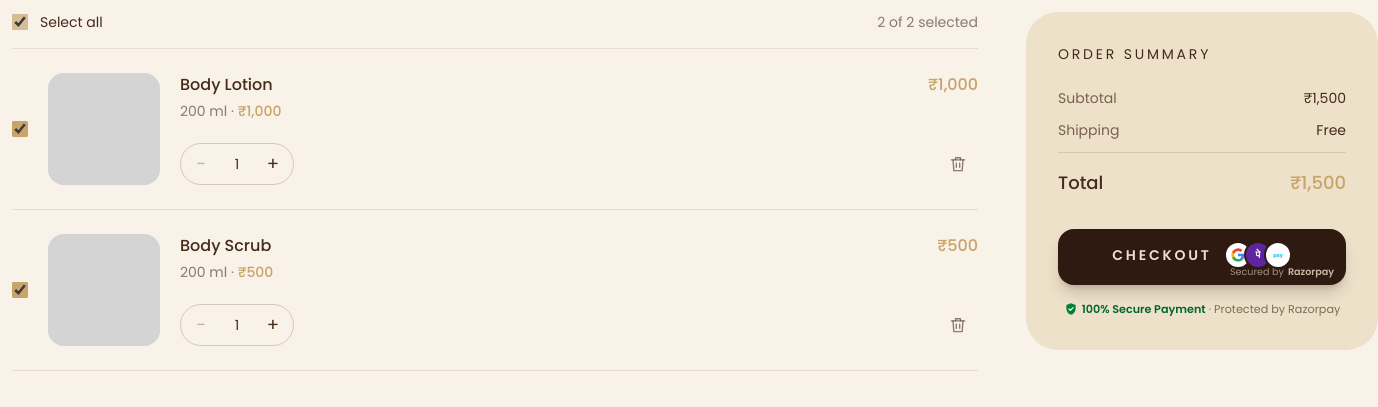
Test: CartView › unticking an item leaves it out of the totals; none ticked disables Checkout
Click the checkbox named "Select Body Lotion for checkout": [20, 129] box [12,121,28,137]
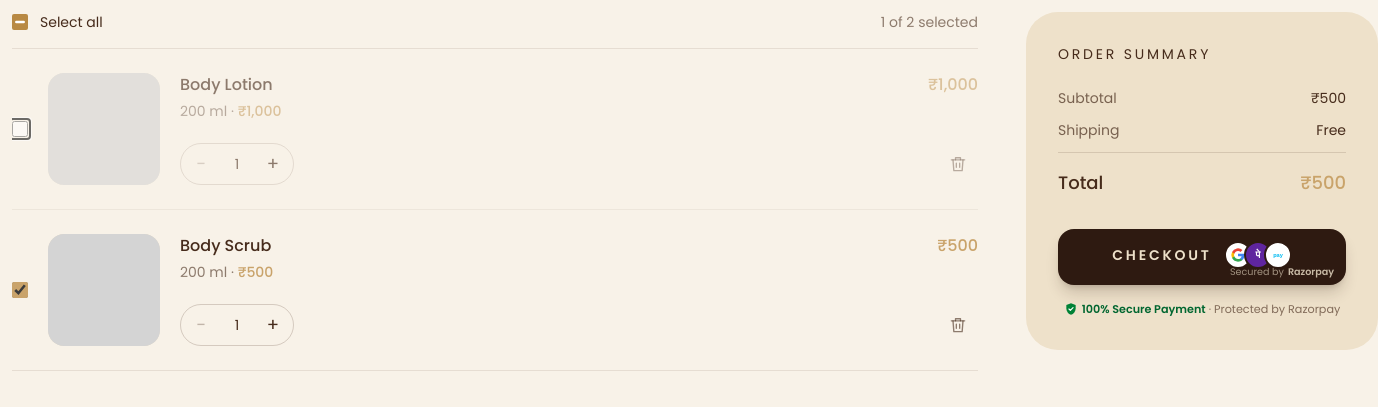
Check: the 2nd text "₹500" is shown, box [1300,169,1346,197]
Check: the checkbox labelled "Select all" is not checked, box [12,14,28,30]
Click the checkbox named "Select Body Scrub for checkout": [20, 290] box [12,282,28,298]
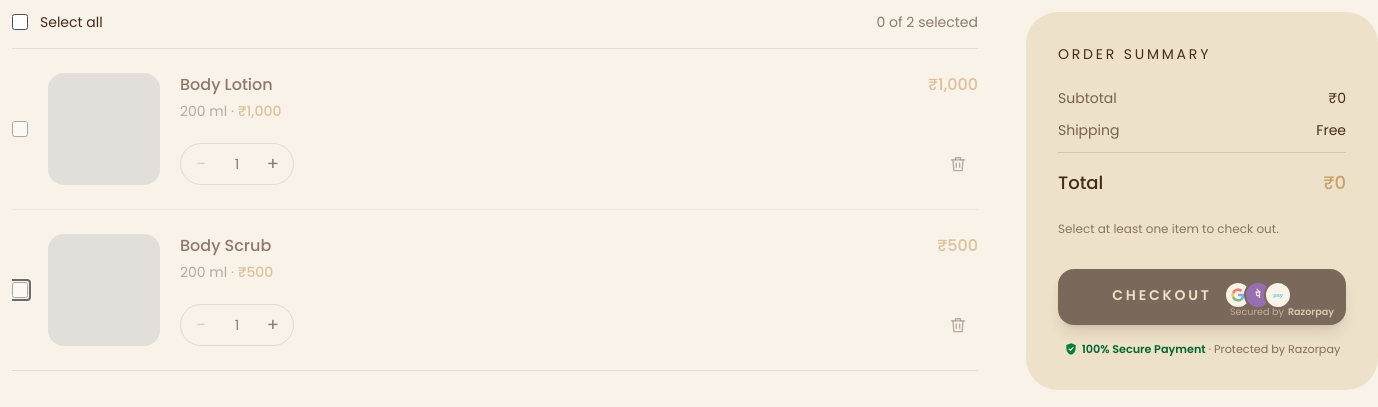
Check: the text "Select at least one item to check out." is shown, box [1058,220,1279,237]
Check: the button "Checkout पे pay Secured by Razorpay" is disabled, box [1058,269,1346,325]
